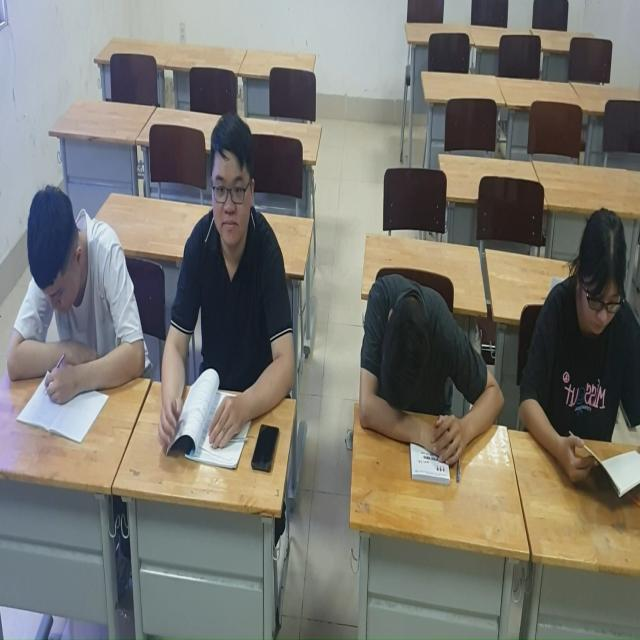read: (153, 108, 304, 463), (6, 157, 143, 441), (514, 204, 640, 502)
sleep: (343, 282, 500, 488)
